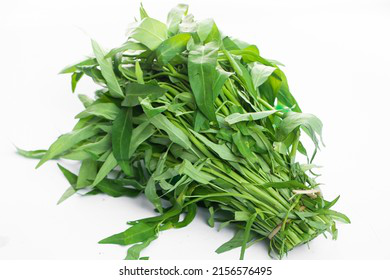Kangkung: (44, 8, 345, 236)
